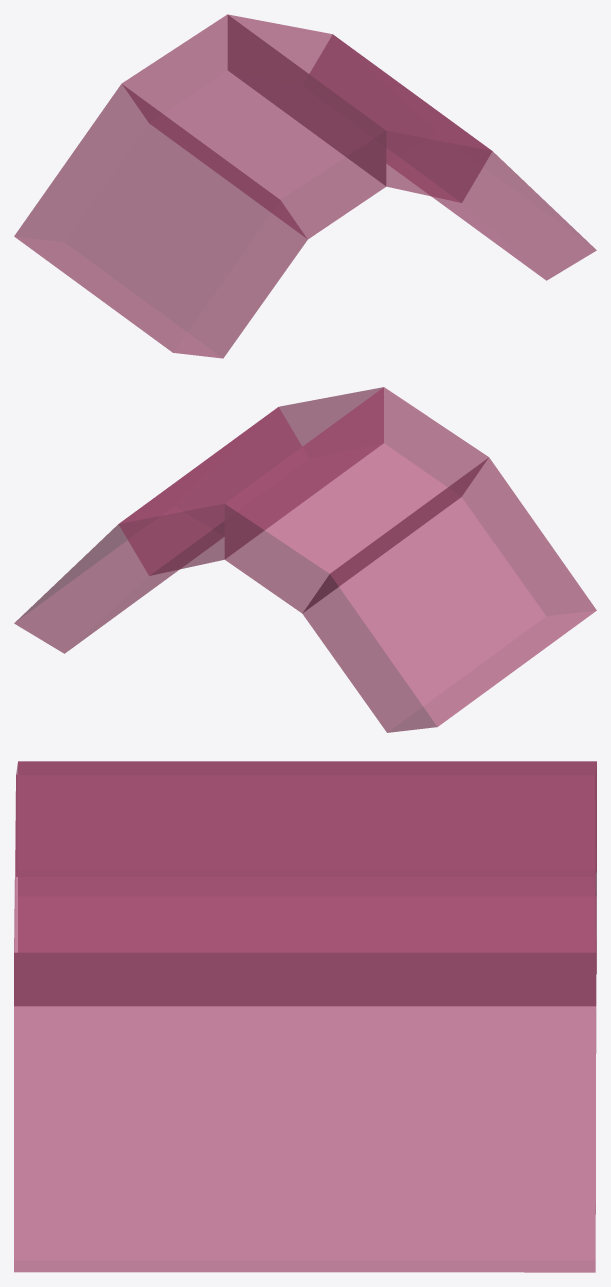
File: SM_Bld_Awning_01_Collision.fbx
The picture shows the model from 3 angles, top to bottom: view 1: azimuth 30°, elevation 25°; view 2: azimuth 150°, elevation 25°; view 3: azimuth 270°, elevation 25°; orthographic projection. The views are drawn at different scales.
Visible parts, largest first — view 1: SM_Bld_Awning_01_Collision; view 2: SM_Bld_Awning_01_Collision; view 3: SM_Bld_Awning_01_Collision.
Boxes of the visible parts, x1,y1,x2,y2 form: SM_Bld_Awning_01_Collision: [14, 14, 596, 358]; SM_Bld_Awning_01_Collision: [14, 387, 596, 732]; SM_Bld_Awning_01_Collision: [14, 761, 596, 1272].
Bounding box in the file's own units: 273 × 116 × 179.
